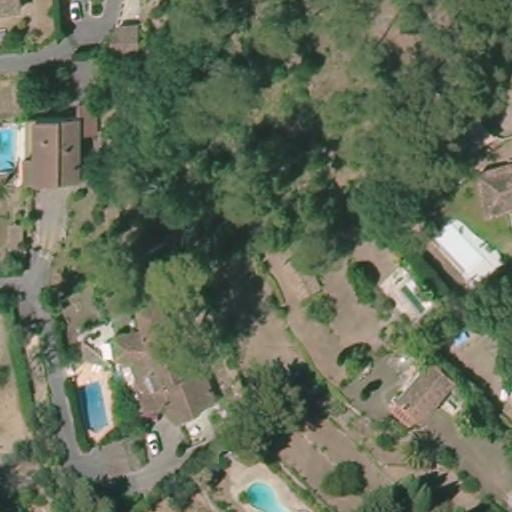pool: (74, 376, 110, 434), (234, 479, 283, 511), (0, 125, 21, 185)
